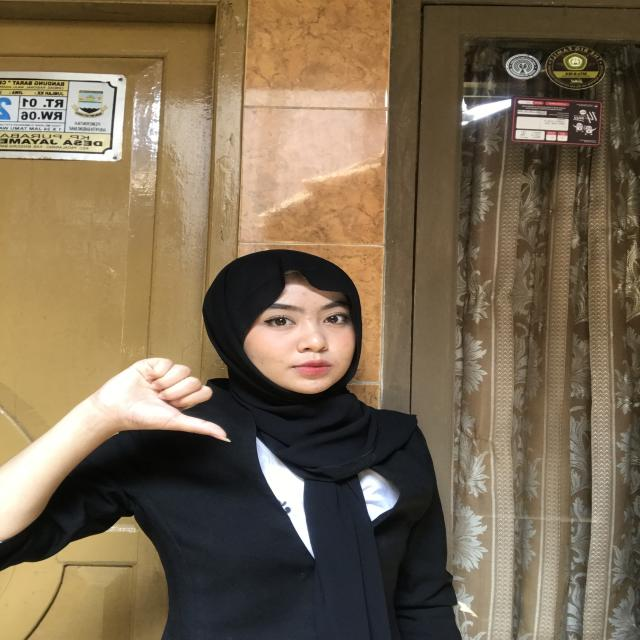sedih: (66, 342, 240, 464)
